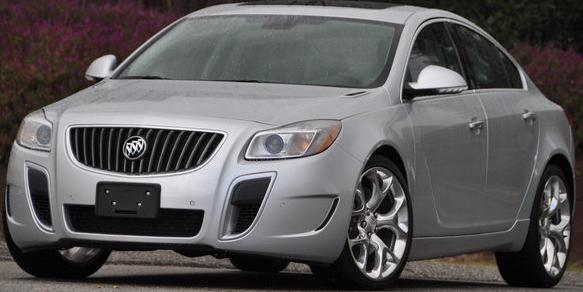front_view: (10, 99, 344, 265)
headlight: (236, 114, 347, 166)
side_glass: (398, 14, 530, 110)
